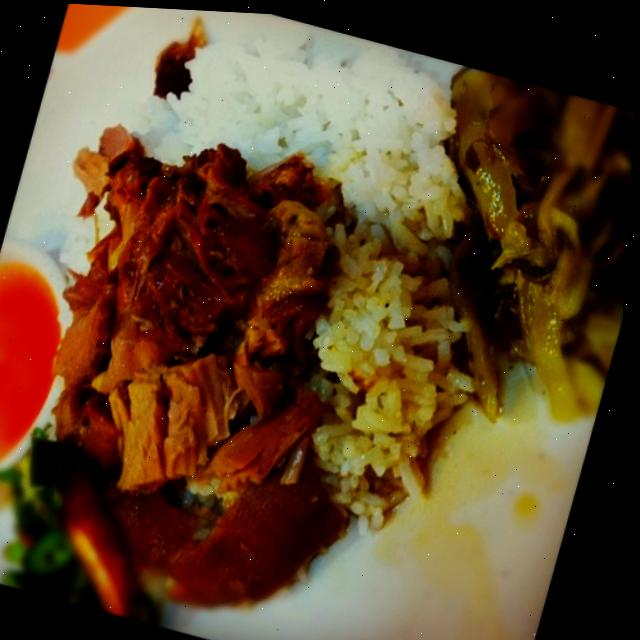猪肉菜式: (0, 12, 618, 640)
